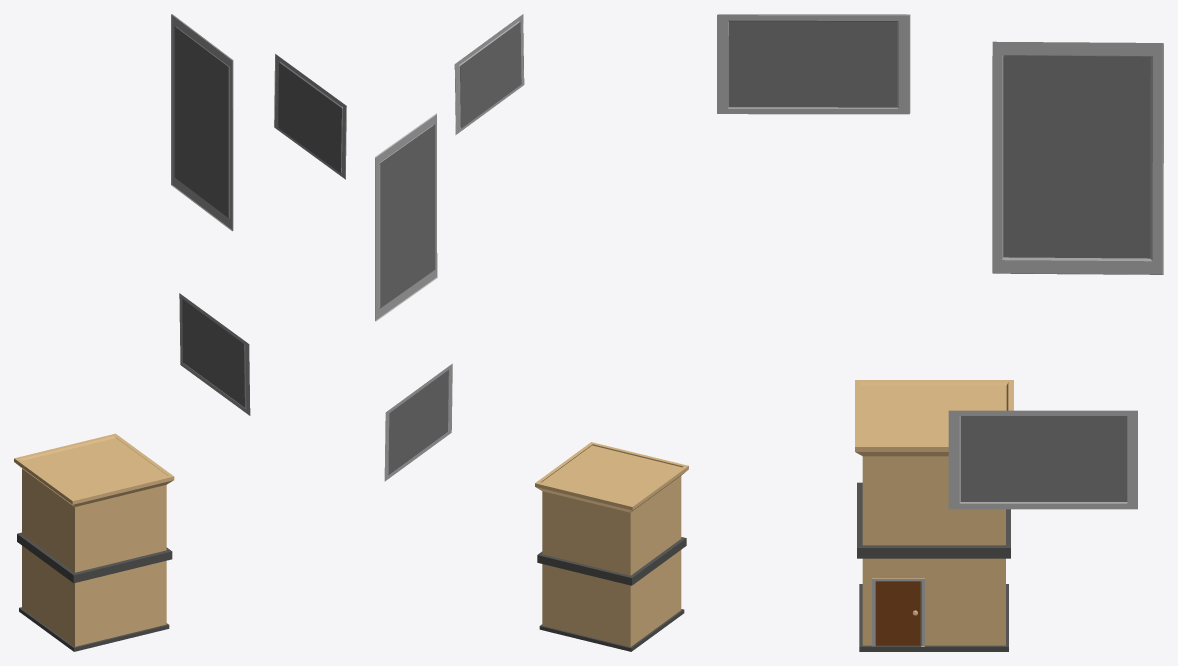
Rendered from Huis.fbx.
3 views of the same model, side by side, from view 1: azimuth 30°, elevation 25°; view 2: azimuth 150°, elevation 25°; view 3: azimuth 270°, elevation 25° (orthographic). The views are drawn at different scales.
Parts seen in each view (by area): view 1: Cube, Plane.001, Plane.002, Plane; view 2: Cube, Plane.001, Plane.002, Plane; view 3: Plane.001, Cube, Plane.002, Plane.
Boxes of the visible parts, x1,y1,x2,y2 form: Cube: (14,433,174,651); Plane.001: (171,14,233,231); Plane.002: (274,54,346,179); Plane: (179,293,250,415); Cube: (535,442,688,651); Plane.001: (375,113,437,321); Plane.002: (454,14,524,134); Plane: (384,363,452,481); Plane.001: (992,41,1163,274); Cube: (855,380,1013,651); Plane.002: (717,14,910,114); Plane: (948,410,1137,509).
Size of the model in its own units: 487 by 1107 by 622.
